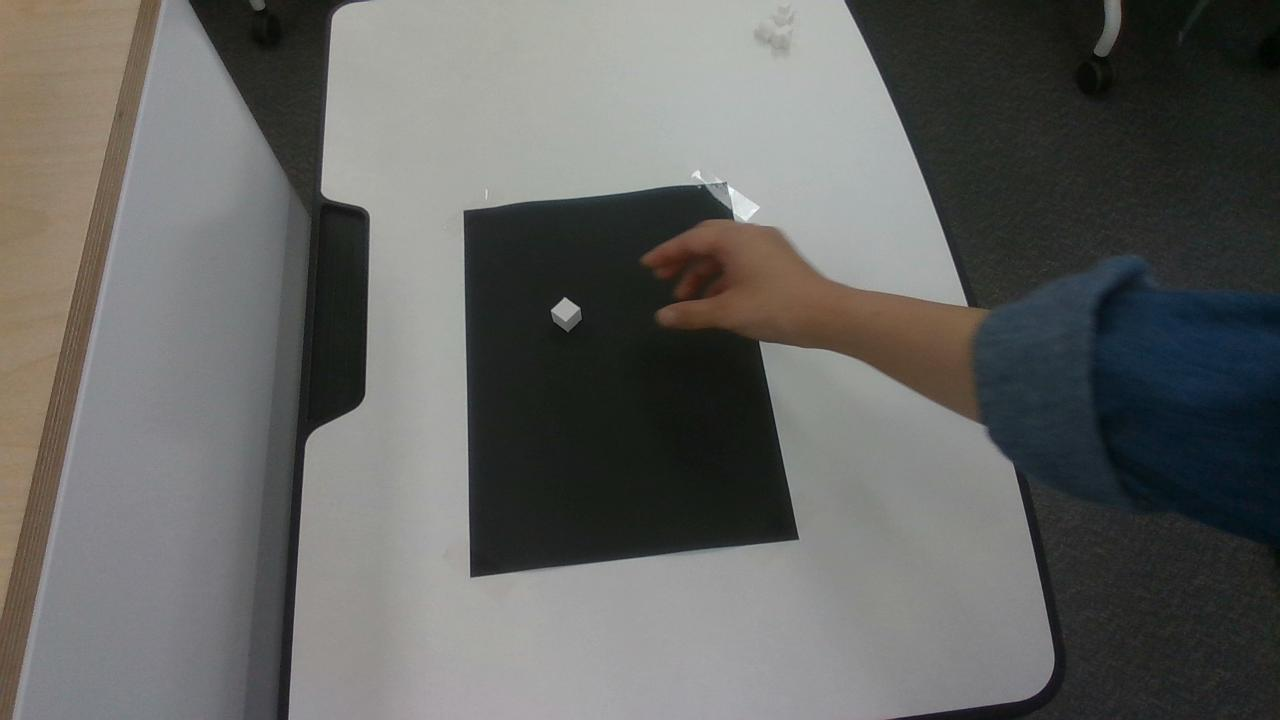cube: (551, 297, 580, 331)
